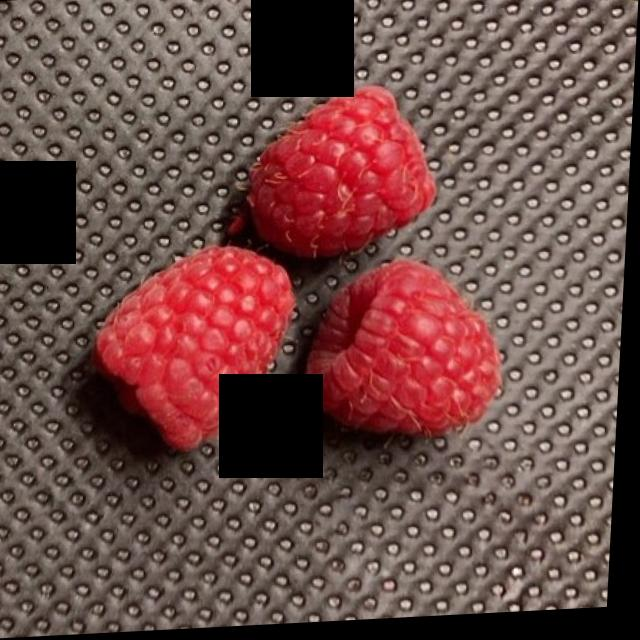raspberries: (87, 91, 510, 469)
